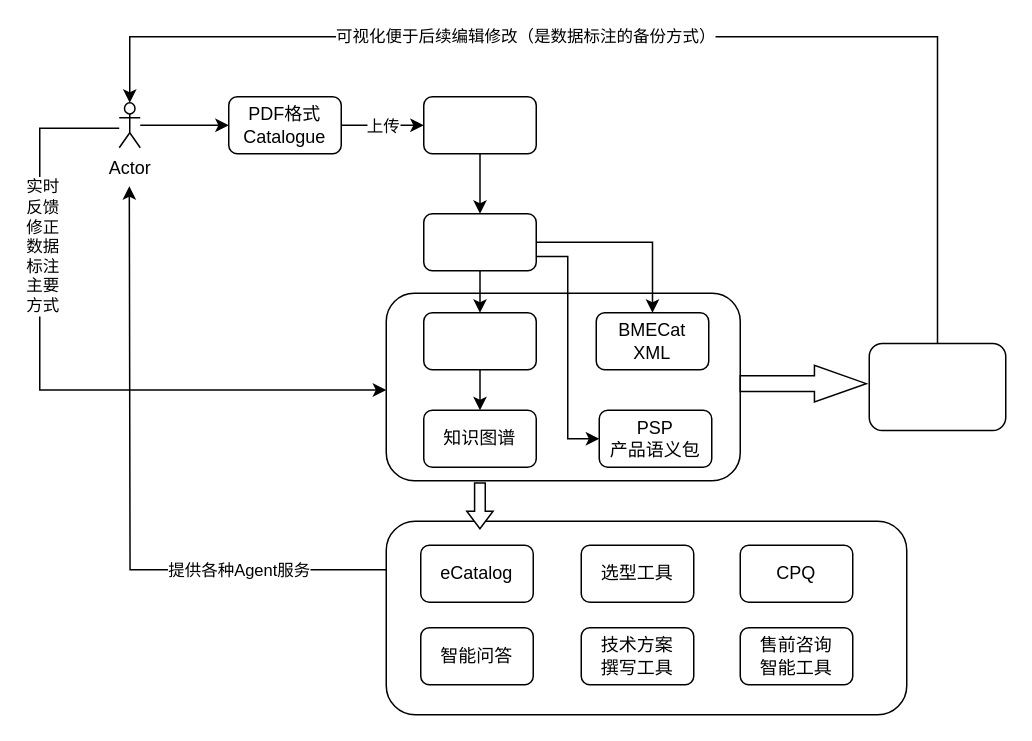
Image size: 1032x741. Some labels were removed from this diagram. Each missing label, with the centre of its shape:
"AI解析" belongs at (x=479, y=241).
"LinkCat 平台" belongs at (x=479, y=124).
"图谱及本体 知识/数据 可视化系统" belongs at (x=937, y=386).
"数据本体" belongs at (x=479, y=340).
